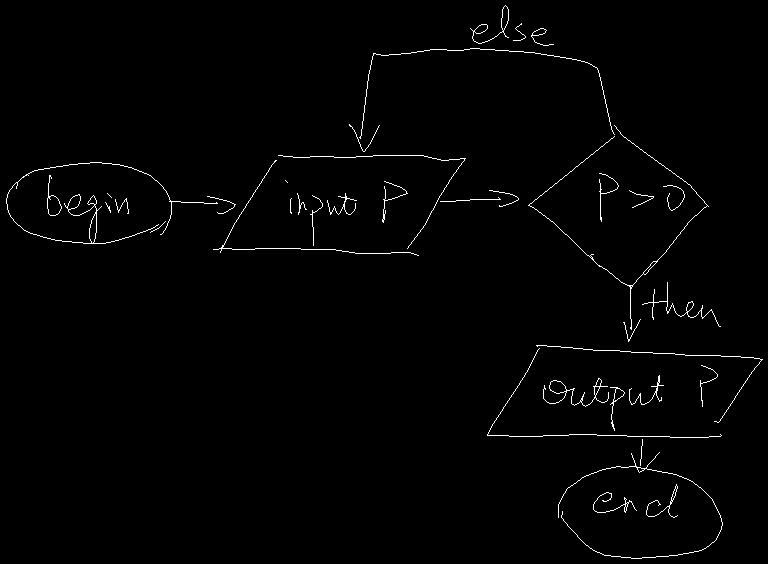arrow: (349, 48, 614, 151), (440, 190, 518, 206), (169, 196, 235, 213), (623, 285, 640, 341), (631, 439, 659, 472)
data: (487, 345, 762, 437), (213, 155, 465, 255)
decision: (528, 125, 708, 288)
terminator: (558, 466, 722, 558), (6, 162, 171, 243)
text: (543, 365, 717, 430), (285, 180, 407, 245), (47, 175, 128, 243), (599, 173, 684, 221), (642, 282, 720, 326), (470, 5, 553, 45), (593, 484, 677, 517)
